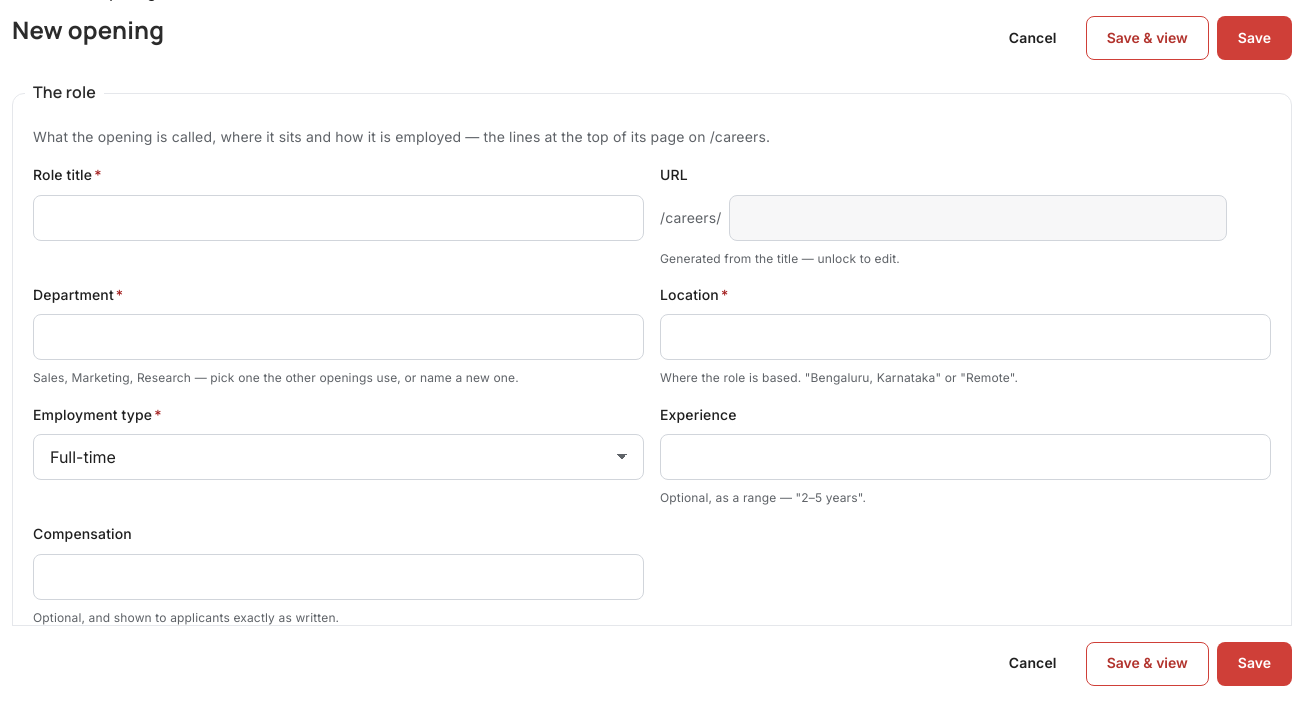
Test: JobFormPage (QA-61) › names the fields by their labels when an empty form is saved
Expected: the heading "New opening" is shown, [12,16,164,45]
Click the 1st button "Save" at (1254, 38), box [1217,16,1292,60]
(page scrolled)
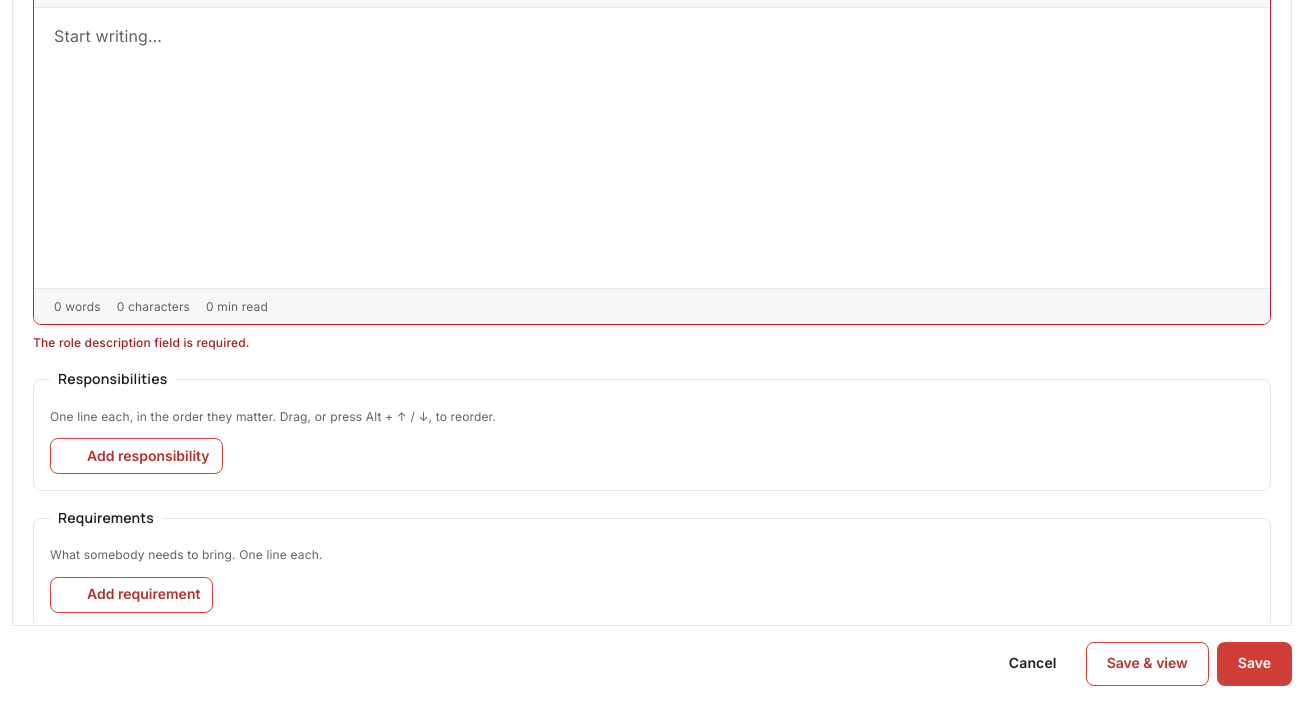
Expected: the text "The role description field is required." is shown, [33,335,250,350]
